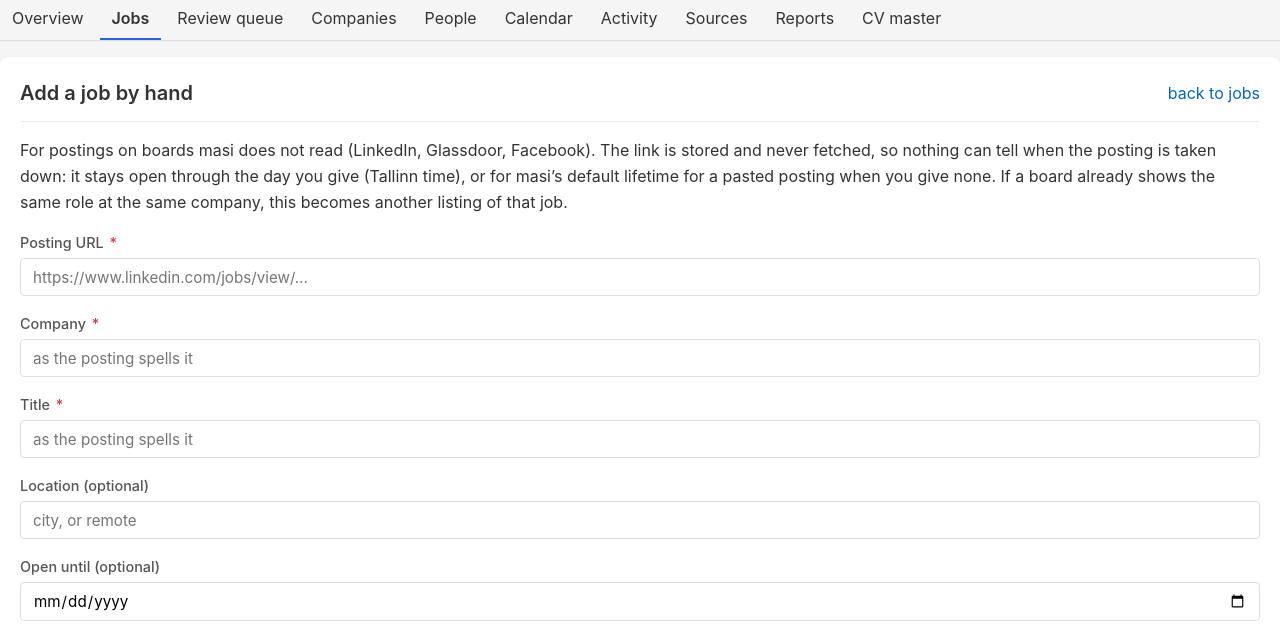
MasiJobAdd › puts a refusal where it is seen: above the fields, and focused
This screenshot has width=1280, height=628.
Type "https://www.linkedin.com/jobs/view/5" into the field labelled "Posting URL *" at (640, 277), box [20,258,1260,296]
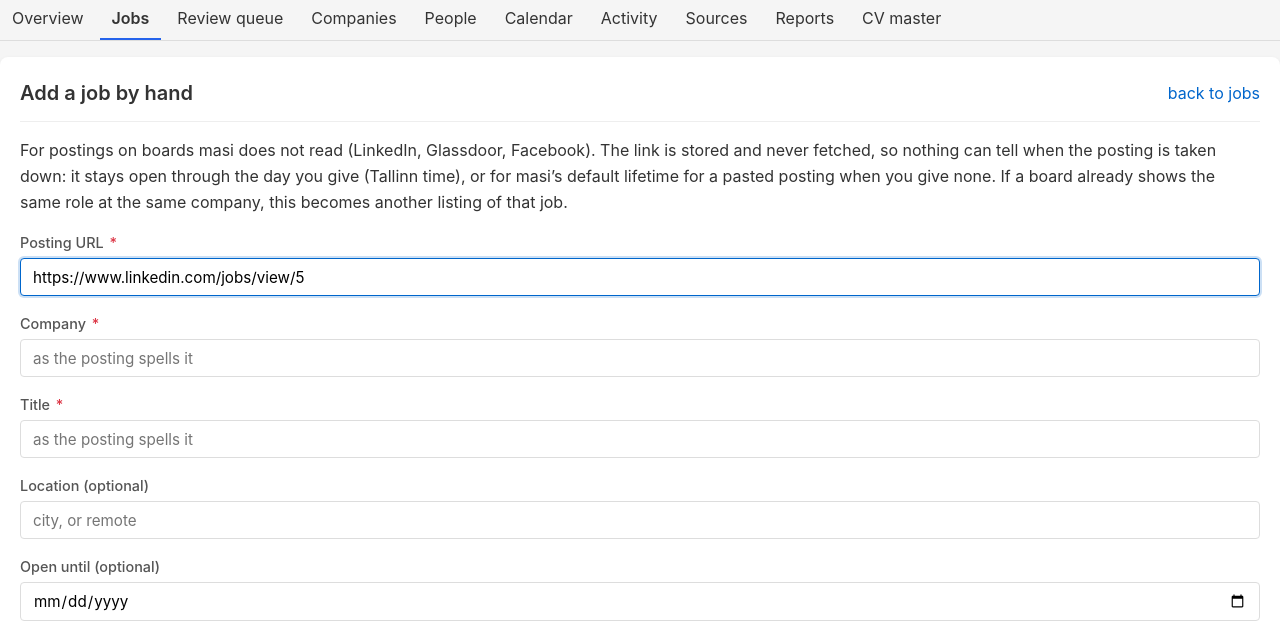
Type "Wise" into the field labelled "Company *" at (640, 358), box [20,339,1260,377]
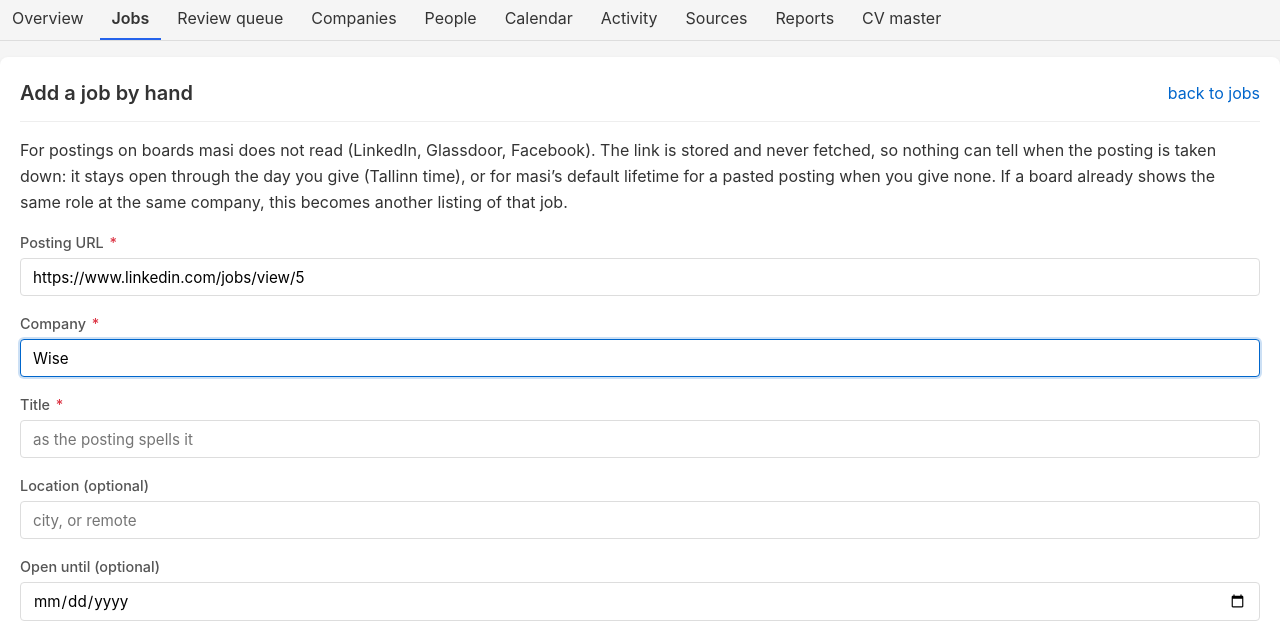
Type "Engineer" into the field labelled "Title *" at (640, 439), box [20,420,1260,458]
Then press Enter
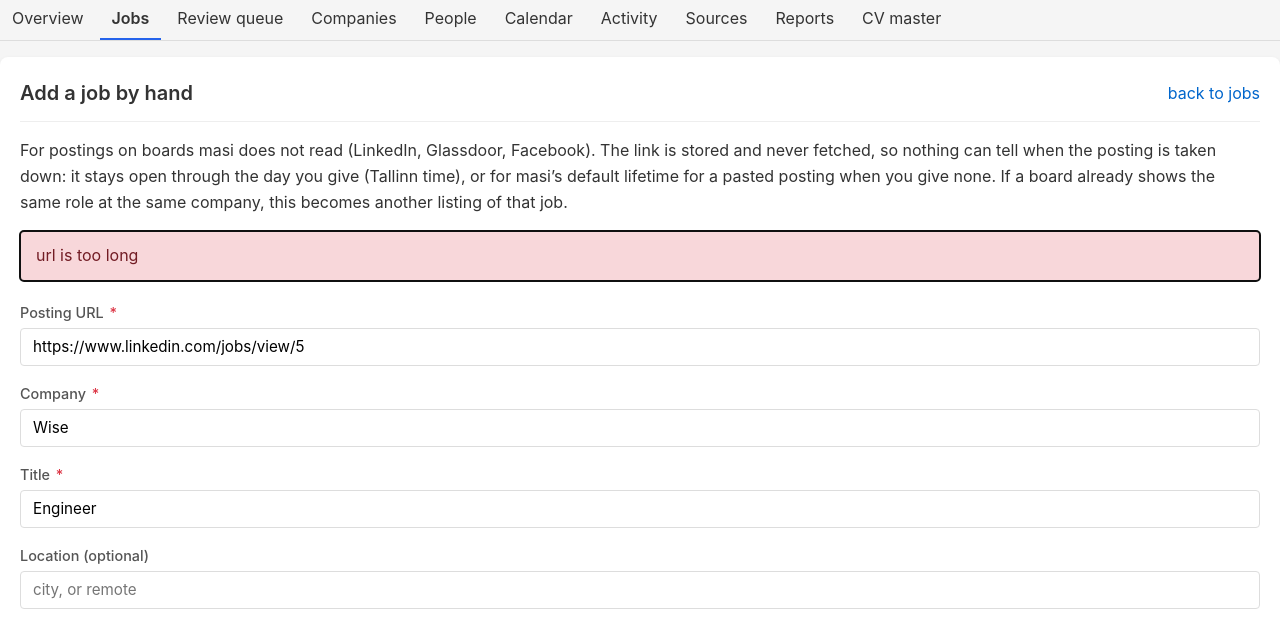
Now the message reads "url is too long", box [36,245,138,265]
